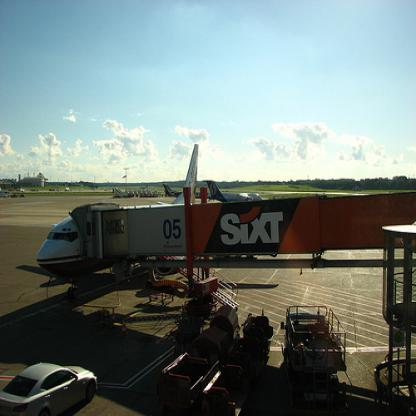aeroplane: (29, 147, 216, 285)
car: (0, 357, 98, 415)
